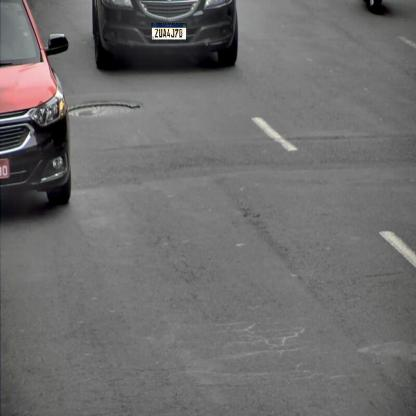PlacaM: (151, 23, 187, 40)
